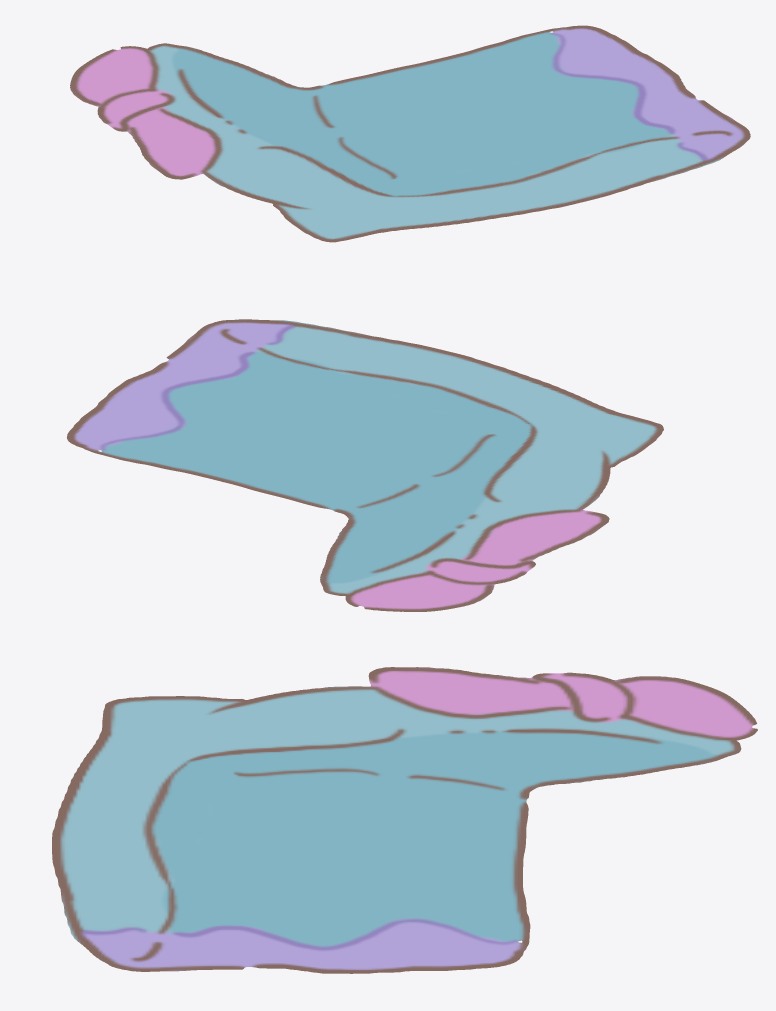
The model's file is Mesh_Activity_Pachinko_02_Item_04.fbx.
3 renders of one model, top to bottom at view 1: azimuth 30°, elevation 25°; view 2: azimuth 150°, elevation 25°; view 3: azimuth 270°, elevation 25°, orthographic. The views are drawn at different scales.
Parts seen in each view (by area): view 1: Mesh_Activity_Pachinko_02_Item_04; view 2: Mesh_Activity_Pachinko_02_Item_04; view 3: Mesh_Activity_Pachinko_02_Item_04.
Part boxes in pixels (x1,y1,x2,y2): Mesh_Activity_Pachinko_02_Item_04: (70, 25, 750, 242); Mesh_Activity_Pachinko_02_Item_04: (67, 319, 663, 611); Mesh_Activity_Pachinko_02_Item_04: (52, 667, 757, 973).
Bounding box in the file's own units: 49.08 × 1.11e-14 × 46.49.
